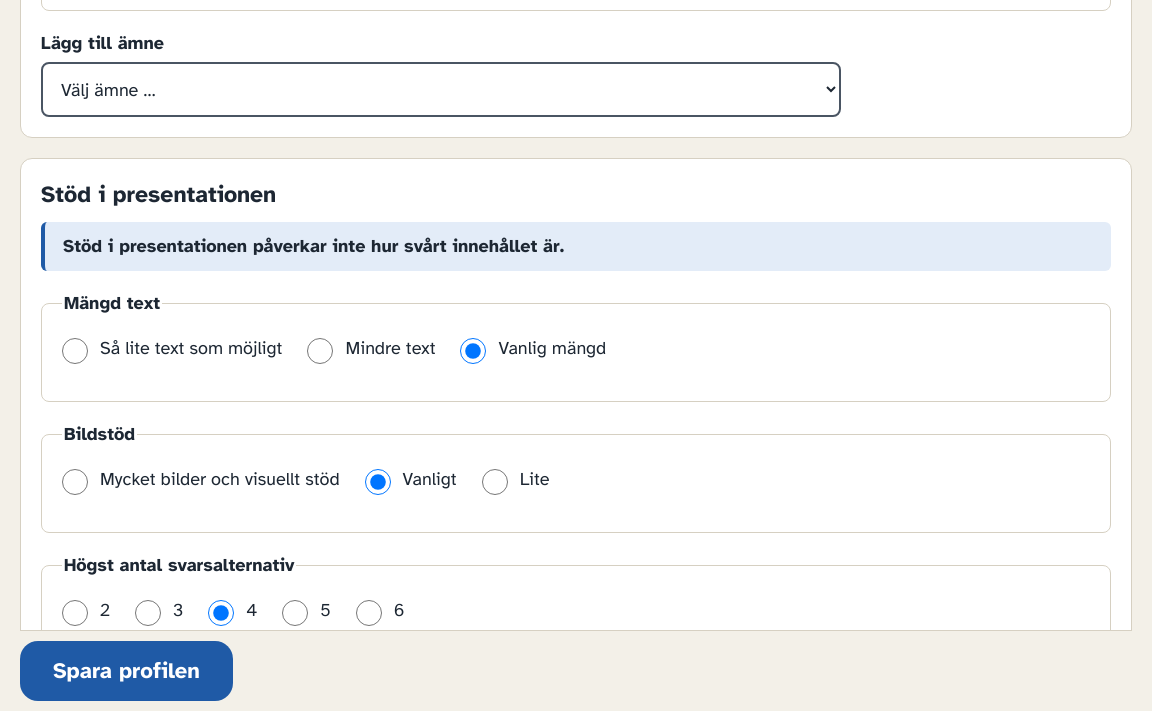
Test: profile editor › keeps support separate from difficulty and saves support choices
This screenshot has width=1152, height=711.
(page scrolled)
Expected: the text "Stöd i presentationen påverkar inte hur svårt innehållet är." is shown, top-left (41, 222), bottom-right (1111, 271)
Click the radio button labelled "Så lite text som möjligt".
click(75, 351)  # box top-left (62, 338), bottom-right (88, 364)
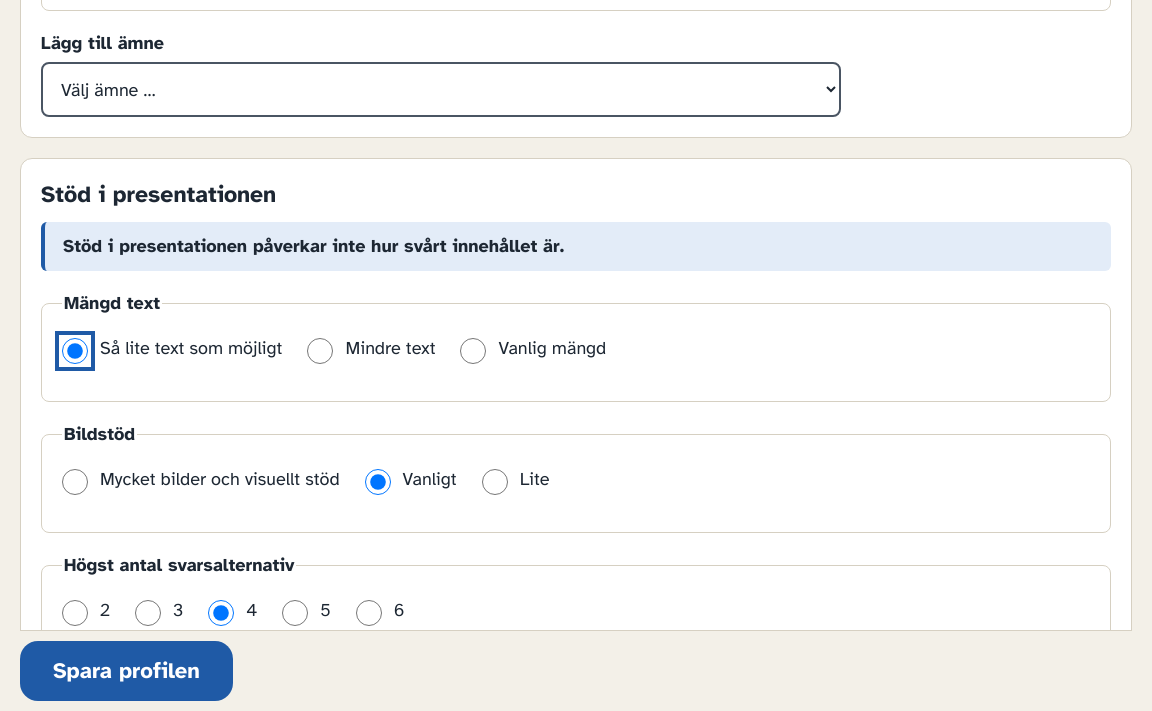
Click the radio button labelled "3".
click(148, 613)  # box top-left (135, 600), bottom-right (161, 626)
(page scrolled)
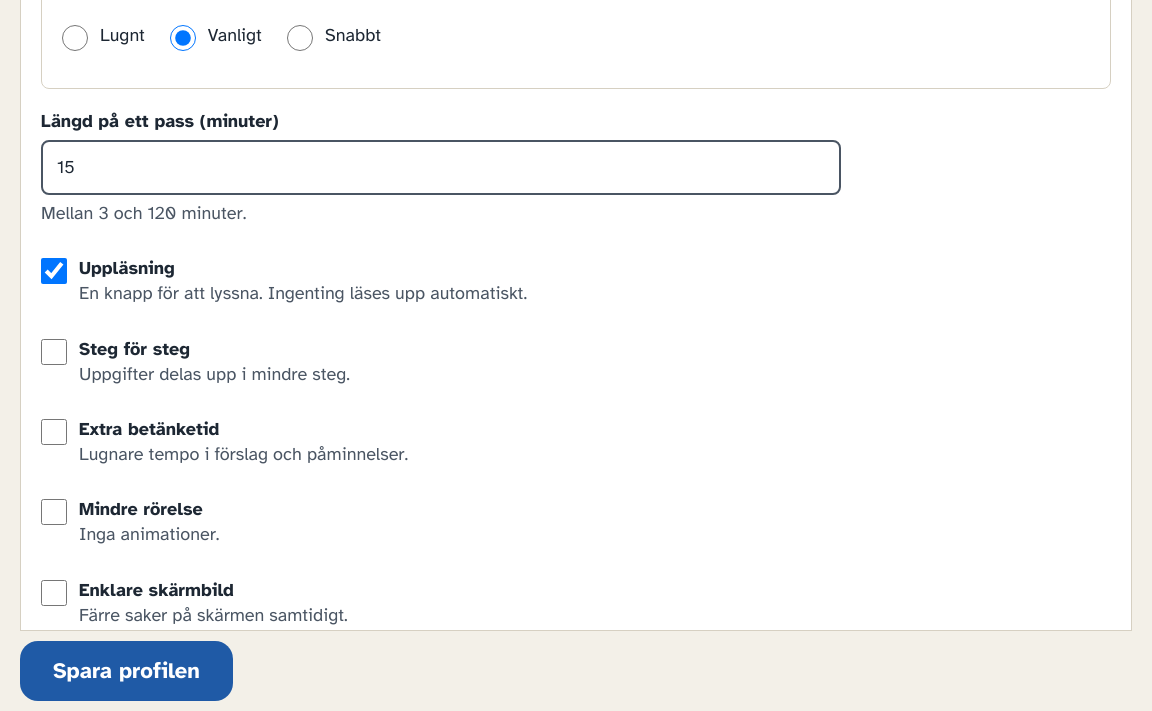
Click the checkbox labelled "Steg för steg".
click(54, 352)  # box top-left (41, 338), bottom-right (67, 364)
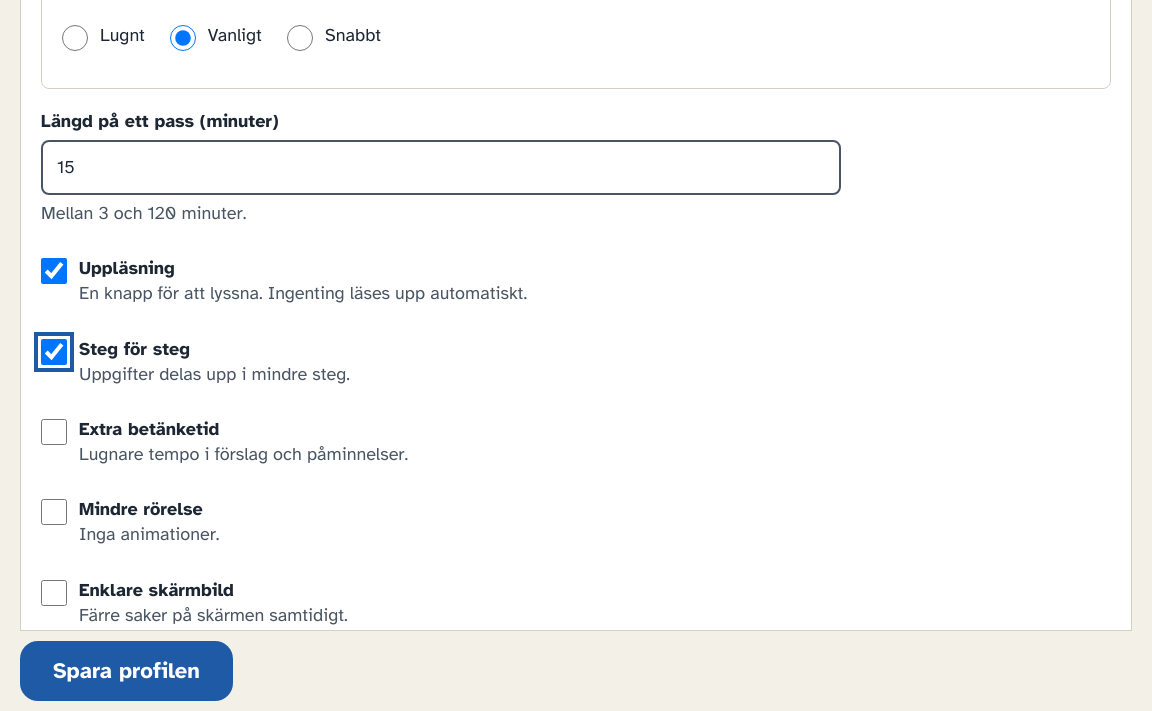
Click the button "Spara profilen".
click(126, 671)  # box top-left (20, 641), bottom-right (233, 701)
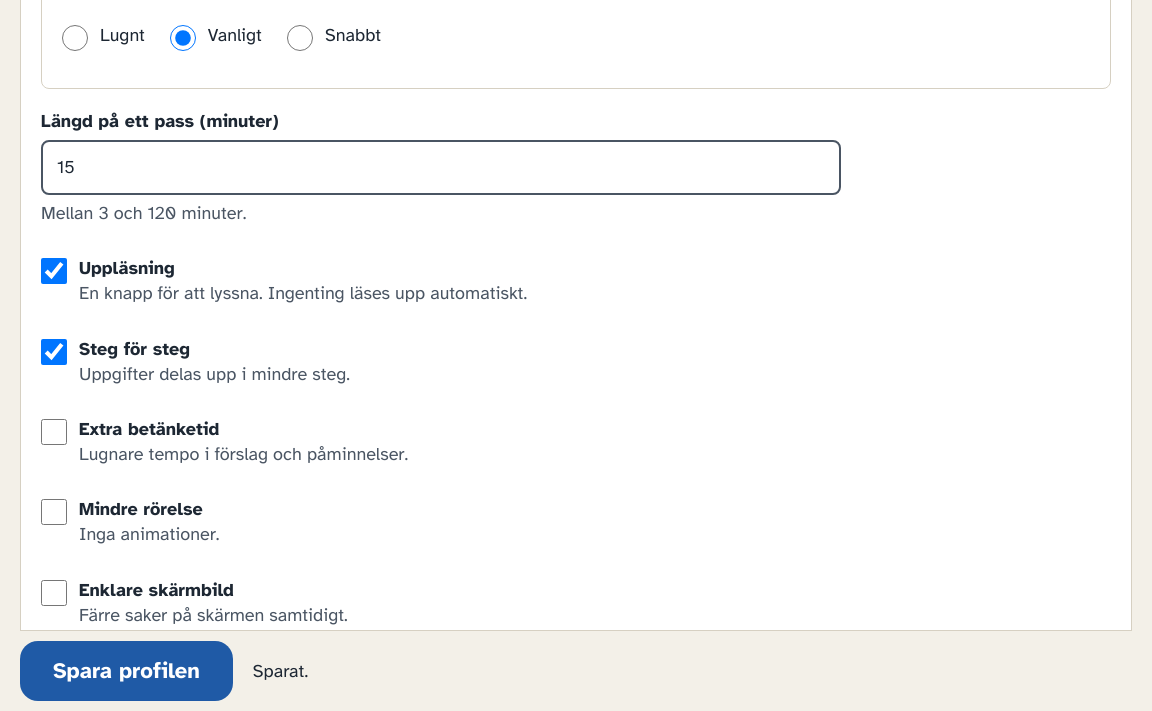
Expected: the text "Sparat." is shown, top-left (253, 658), bottom-right (308, 684)
